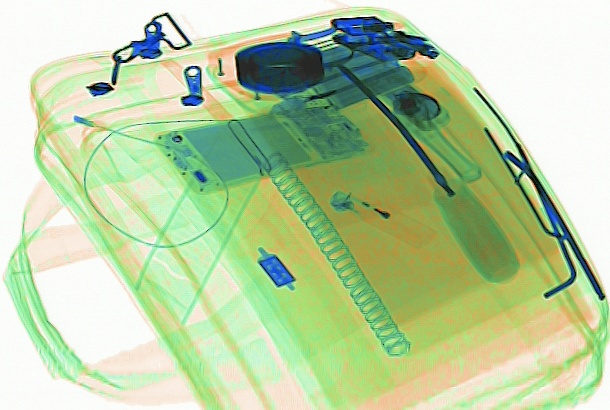lighter: (328, 180, 437, 252)
powerbank: (270, 32, 429, 120)
